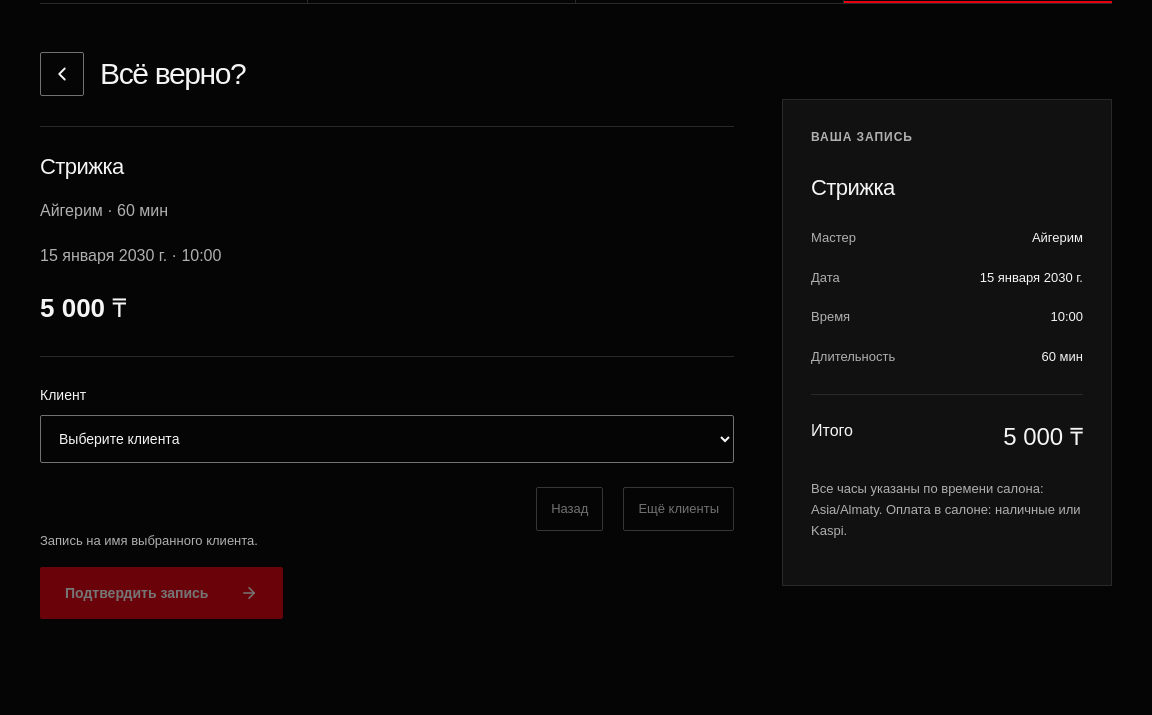
Test case: Book page: admin booking › requires a client, then books and shows «Вы записаны.»
(page scrolled)
Expected: the button "Подтвердить запись" is disabled, top-left (40, 567), bottom-right (284, 619)
Select "Асель · a@example.com" in the dropdown labelled "Клиент" at (387, 439), box top-left (40, 415), bottom-right (734, 463)
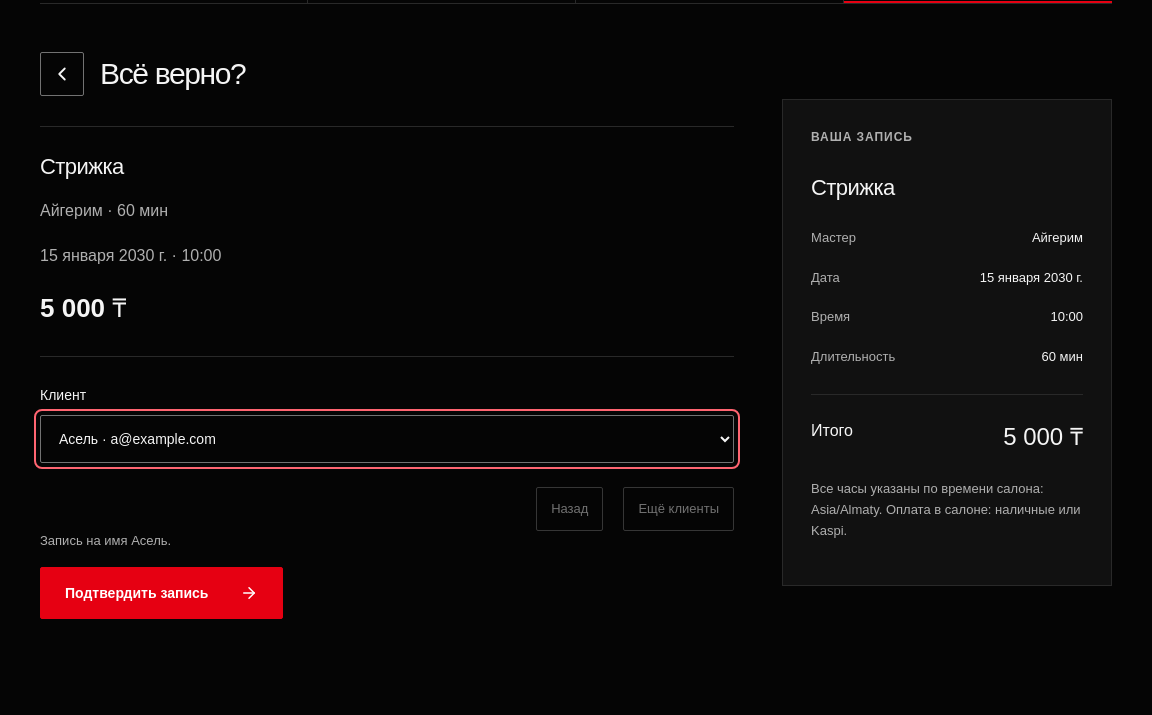
Now the button "Подтвердить запись" is enabled
Click the button "Подтвердить запись" at (162, 593), box top-left (40, 567), bottom-right (284, 619)
(page scrolled)
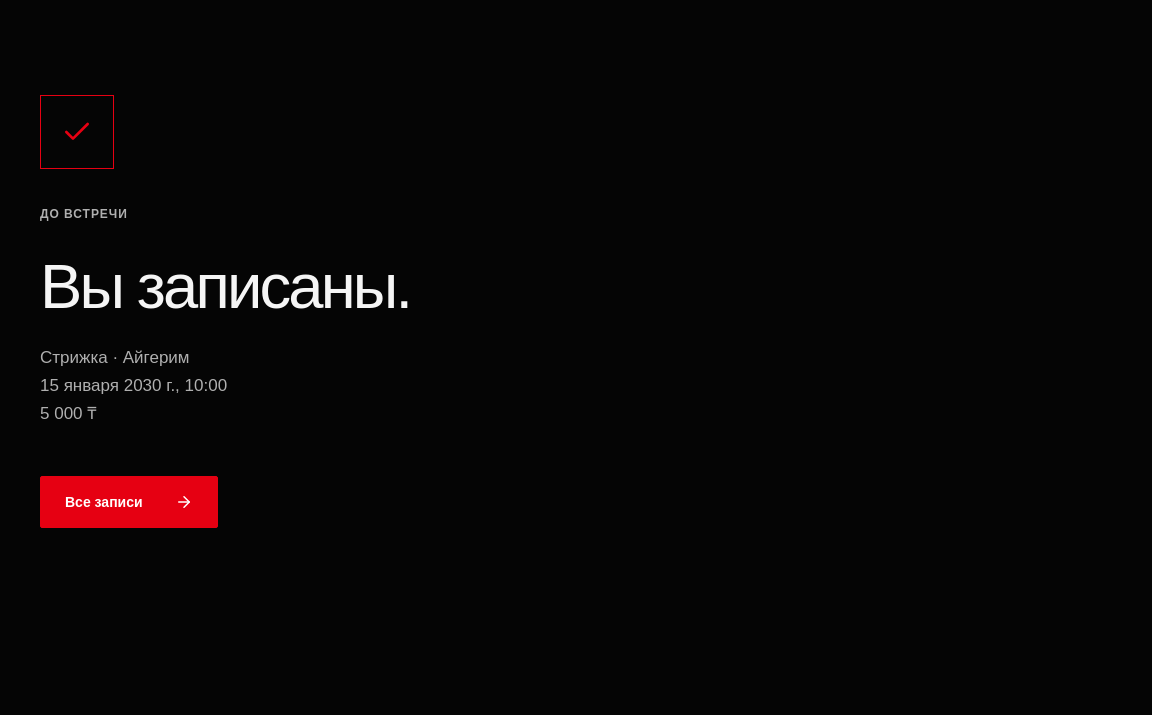
Now the heading "Вы записаны." is shown, box top-left (40, 251), bottom-right (410, 321)
